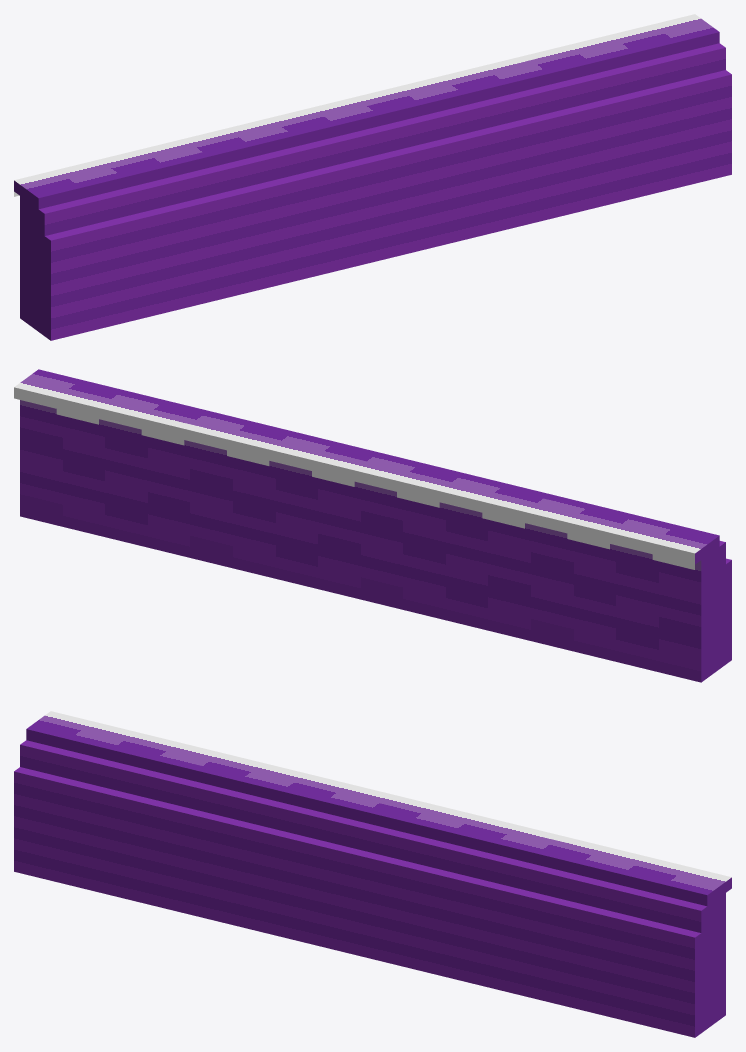
Rendered from wave_purple.glb.
3 renders of one model, top to bottom at view 1: azimuth 30°, elevation 25°; view 2: azimuth 150°, elevation 25°; view 3: azimuth 330°, elevation 25°, orthographic.
Parts seen in each view (by area): view 1: cube; view 2: cube; view 3: cube.
Boxes of the visible parts, left/top/right/bottom form: cube: left=14, top=14, right=731, bottom=340; cube: left=14, top=369, right=731, bottom=682; cube: left=14, top=711, right=731, bottom=1037.
Bounding box in the file's own units: 64 × 12 × 6.
1 material, 1 textured.
